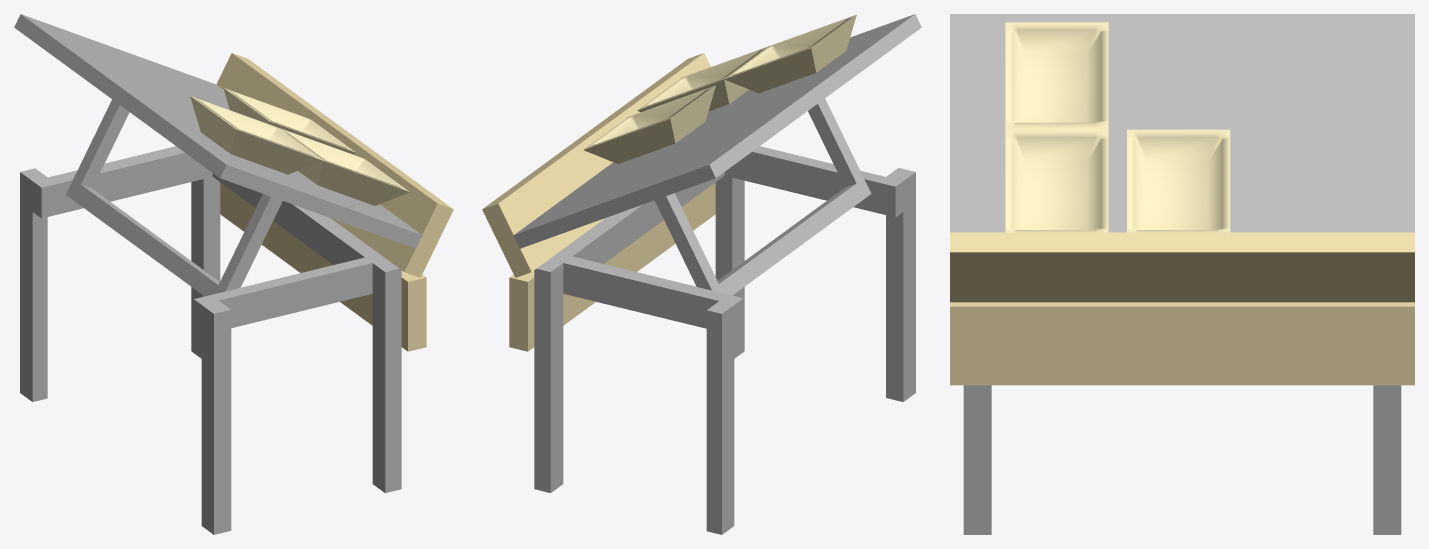
The model's file is FruitStand.fbx.
The picture shows the model from 3 angles, left to right: view 1: azimuth 30°, elevation 25°; view 2: azimuth 150°, elevation 25°; view 3: azimuth 270°, elevation 25°; orthographic projection. The views are drawn at different scales.
Visible parts, largest first — view 1: StandSupport, pCube4, pCube3, pCube5, pCube1 (×2), pCube2, FruitBasket:pCube1; view 2: StandSupport, pCube4, pCube1 (×2), pCube3, pCube5, pCube2, FruitBasket:pCube1; view 3: pCube4, pCube2, pCube3, pCube1 (×2), FruitBasket:pCube1, StandSupport.
Boxes of the visible parts, x1,y1,x2,y2 form: StandSupport: [20, 146, 401, 534]; pCube4: [14, 14, 422, 248]; pCube3: [216, 53, 453, 277]; pCube5: [66, 99, 282, 296]; pCube1 (×2): [190, 88, 355, 174]; pCube2: [220, 182, 426, 351]; FruitBasket:pCube1: [278, 127, 409, 205]; StandSupport: [534, 146, 915, 534]; pCube4: [513, 14, 921, 248]; pCube1 (×2): [583, 14, 856, 163]; pCube3: [482, 53, 710, 277]; pCube5: [654, 98, 871, 295]; pCube2: [509, 182, 715, 351]; FruitBasket:pCube1: [637, 46, 769, 111]; pCube4: [950, 14, 1414, 232]; pCube2: [950, 302, 1414, 385]; pCube3: [950, 232, 1414, 302]; pCube1 (×2): [1005, 22, 1230, 232]; FruitBasket:pCube1: [1005, 129, 1108, 232]; StandSupport: [963, 385, 1401, 534].
Bounding box in the file's own units: 285 × 446 × 435.
